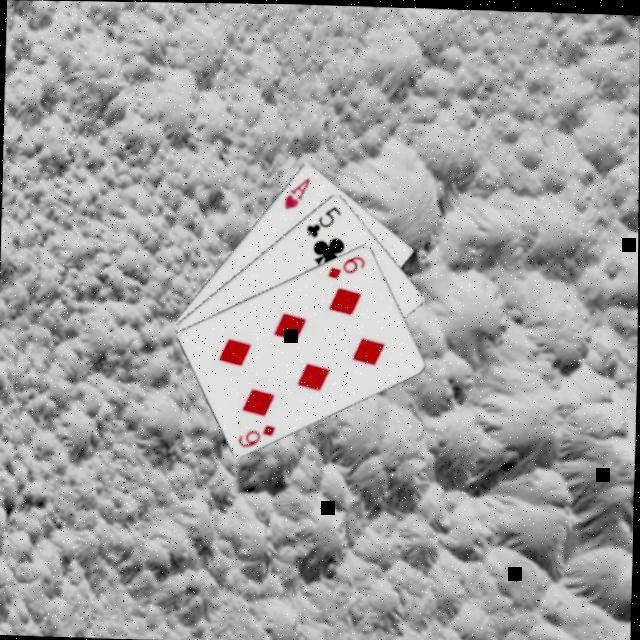5C: (300, 202, 343, 242)
6D: (321, 252, 366, 284), (232, 420, 277, 452)
AH: (278, 173, 311, 212)
